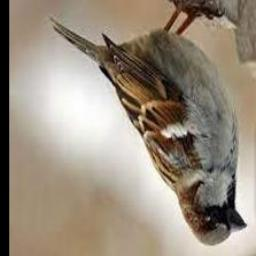Sparrow: (51, 0, 247, 245)
